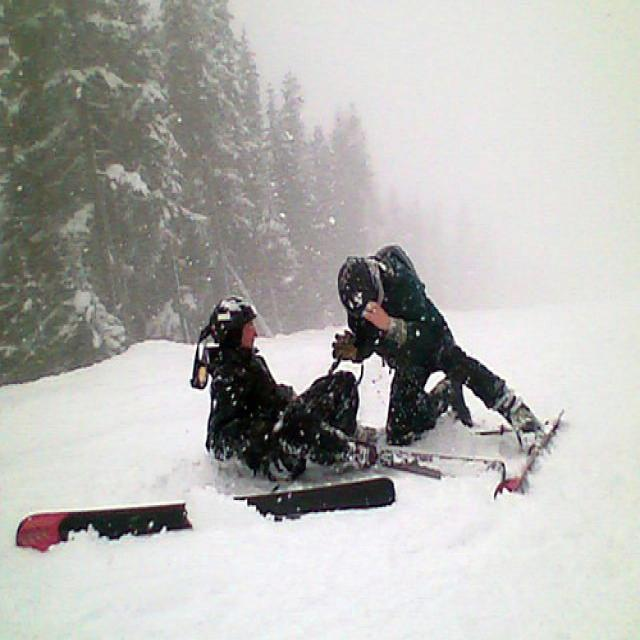non-dog: (332, 241, 550, 450), (190, 296, 374, 483)
